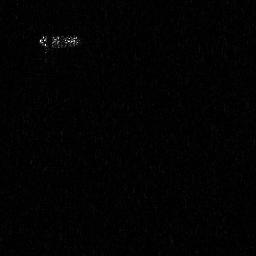ship: (37, 32, 81, 55)
